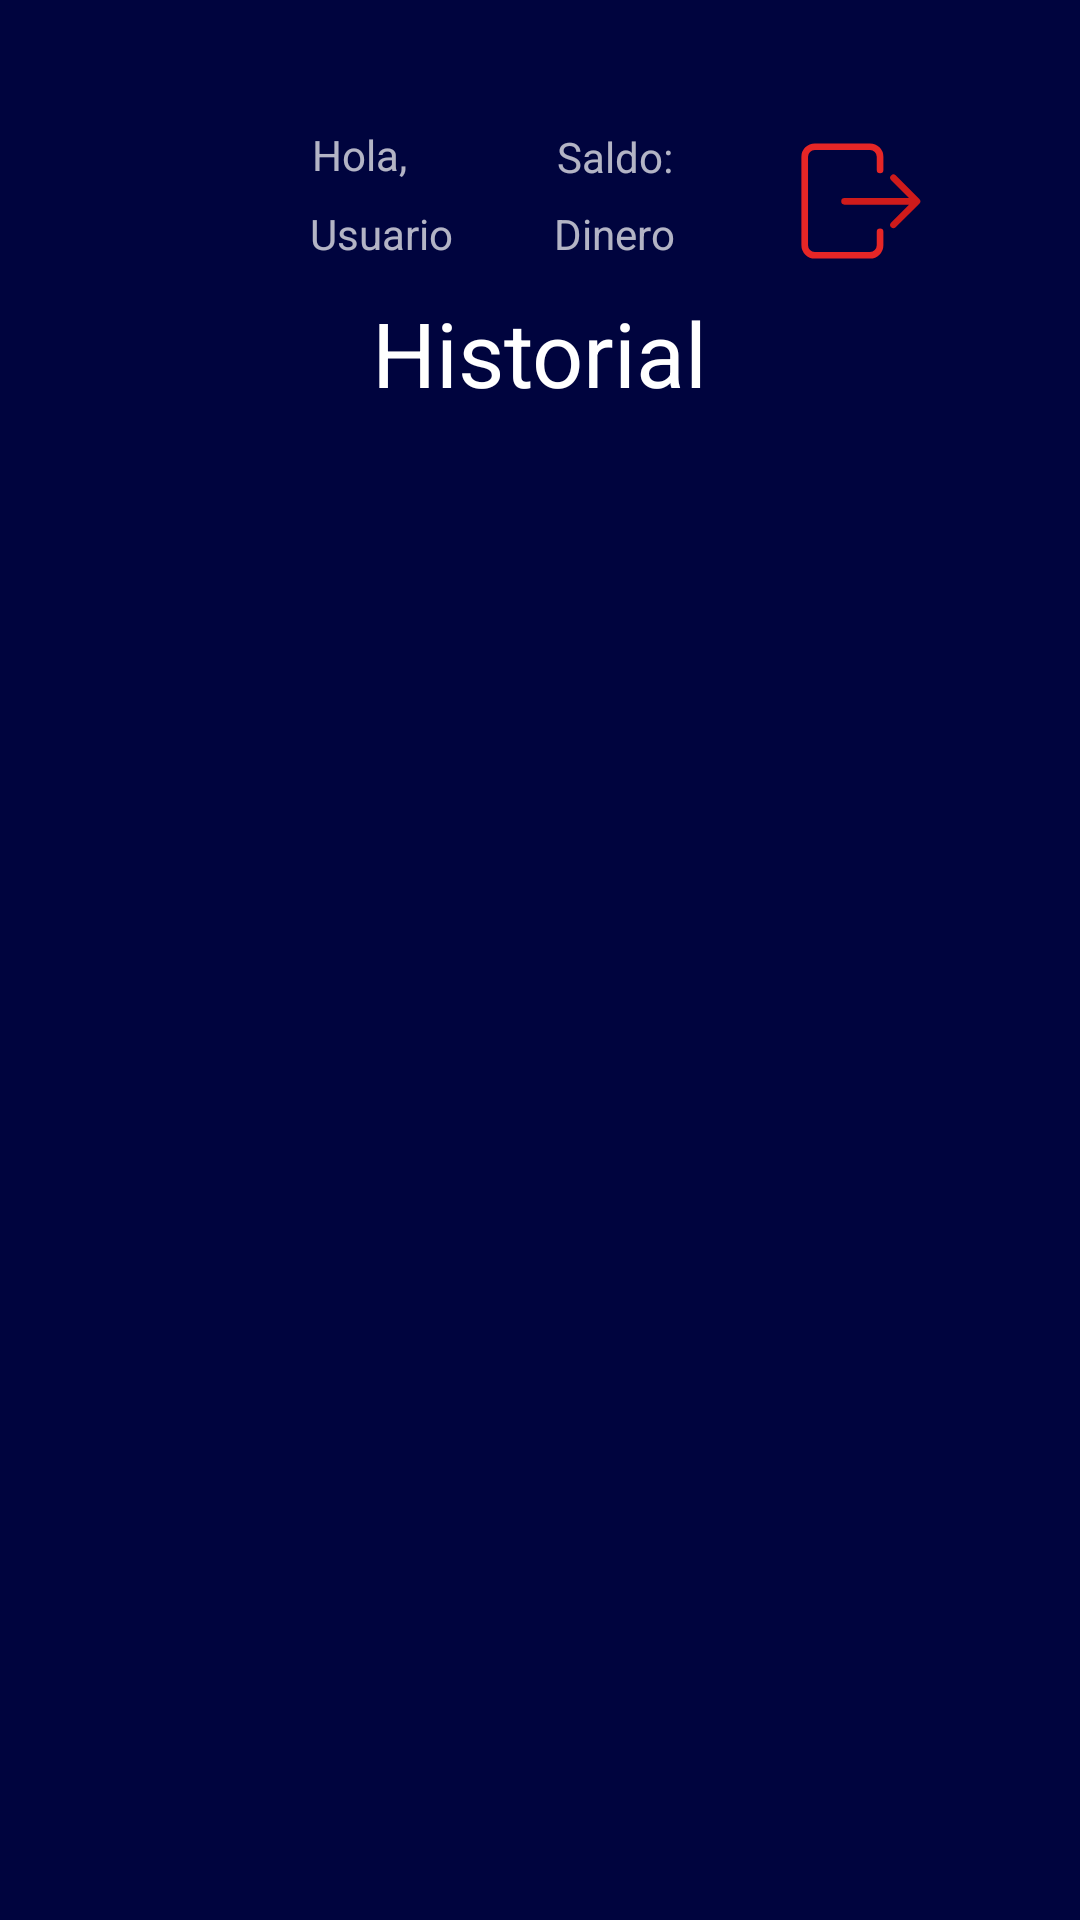

Screen size 1080px x 1920px. Icon name, then its center in pixels as (x=x, y=y):
exit: (x=861, y=201)
